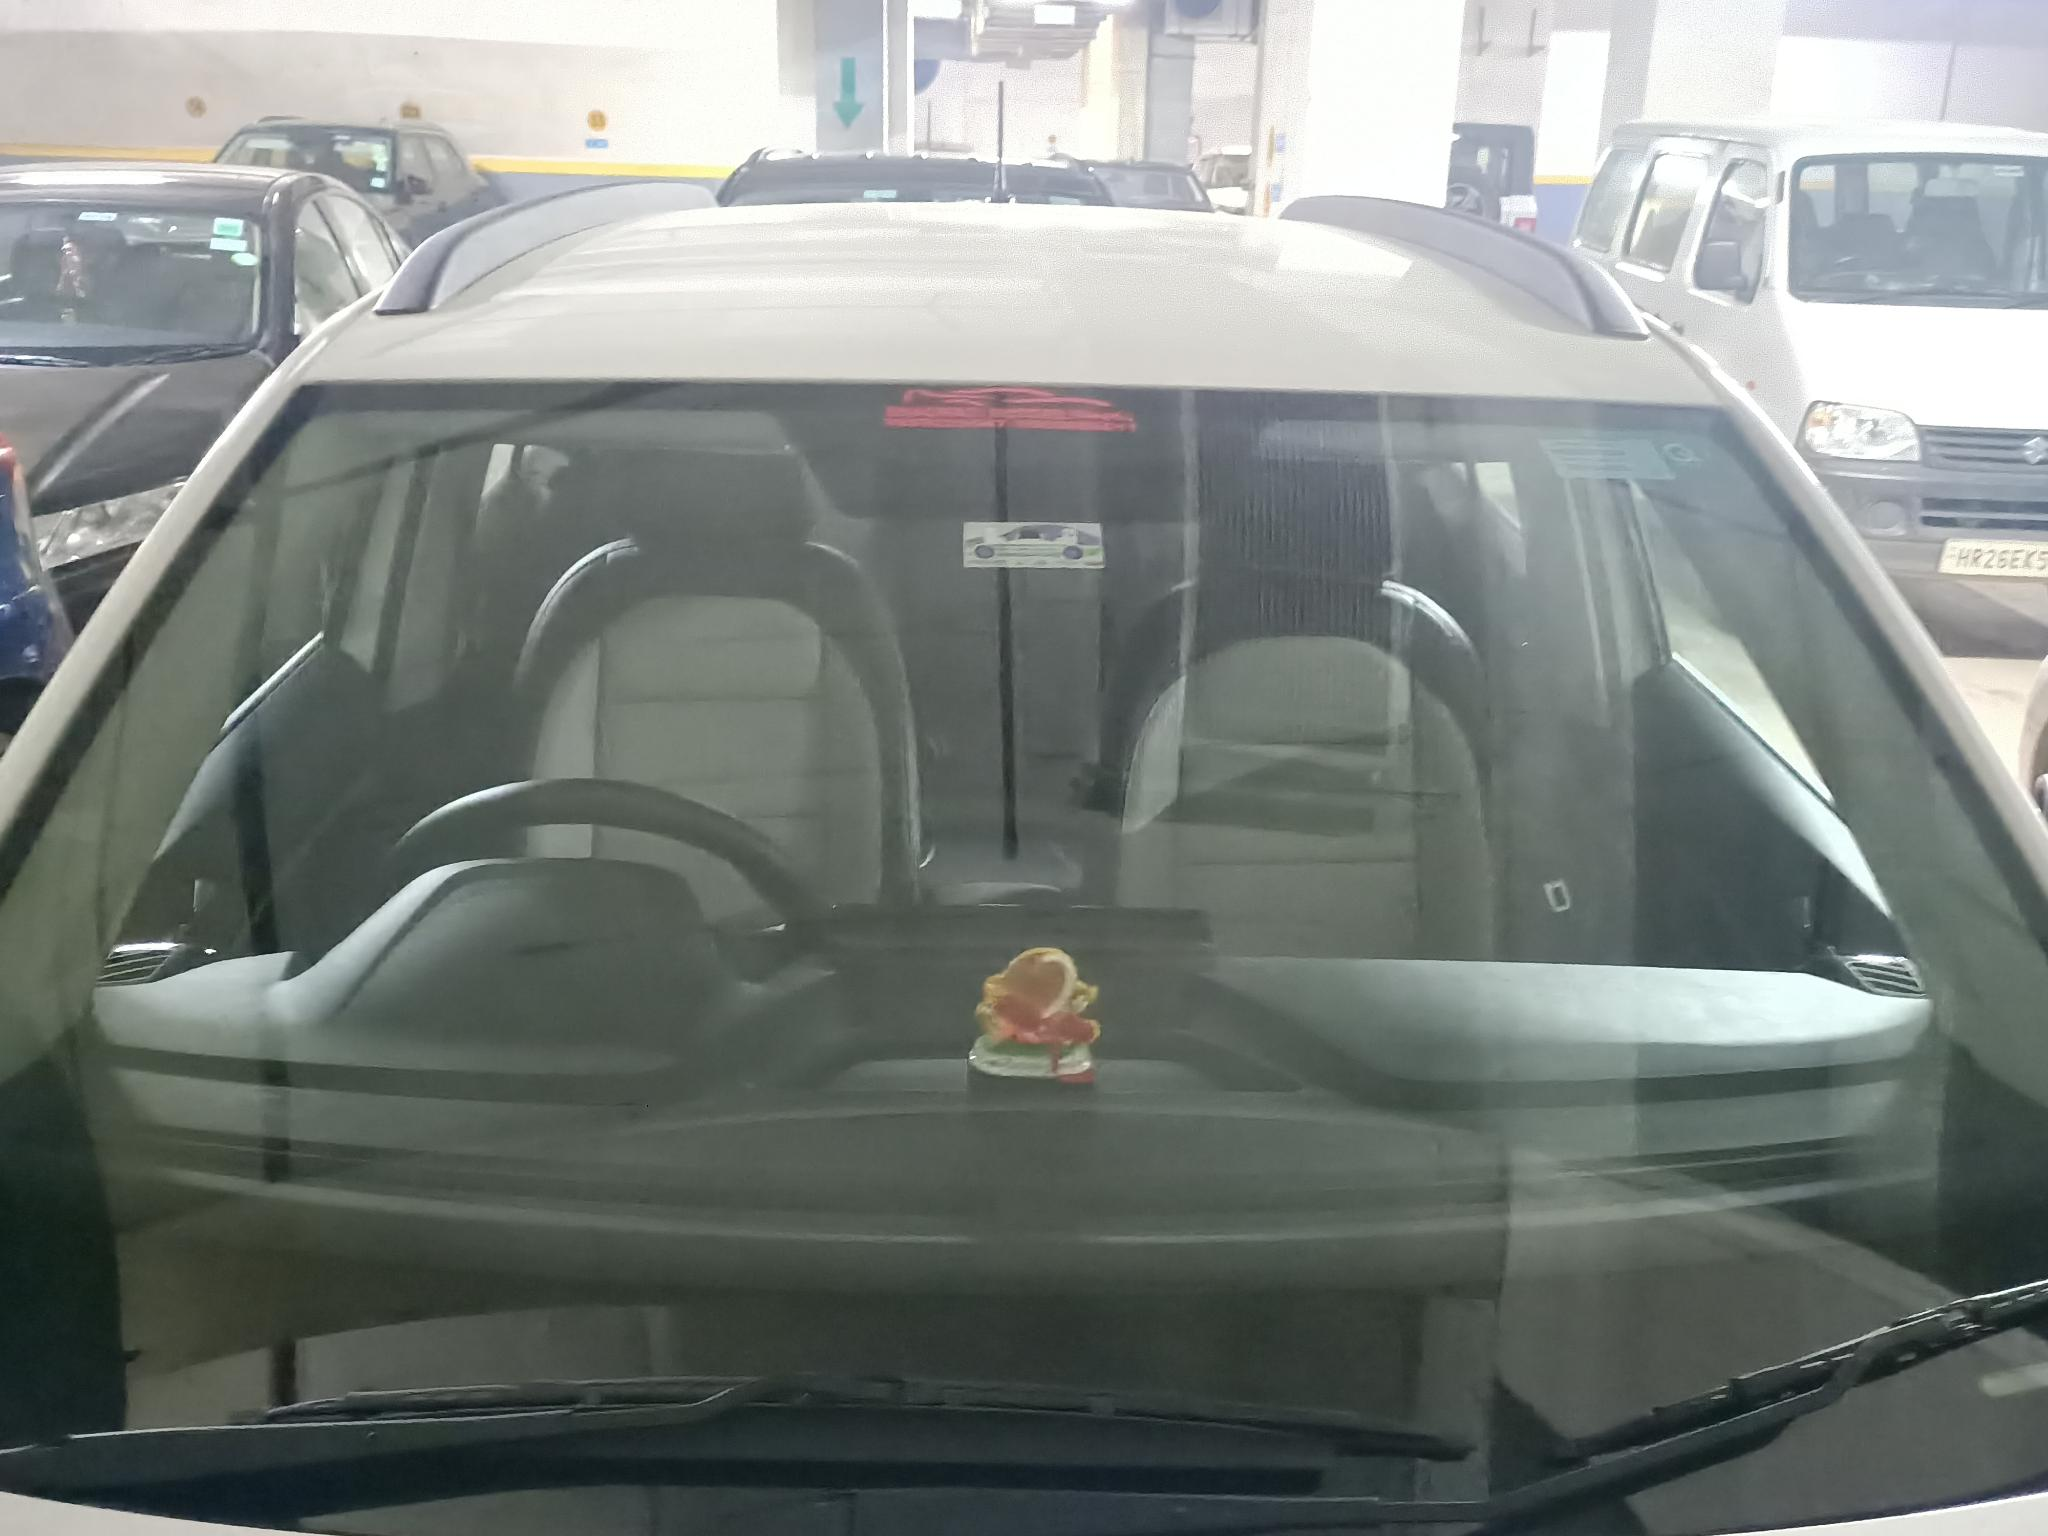FastTag: (942, 502, 1148, 591)
